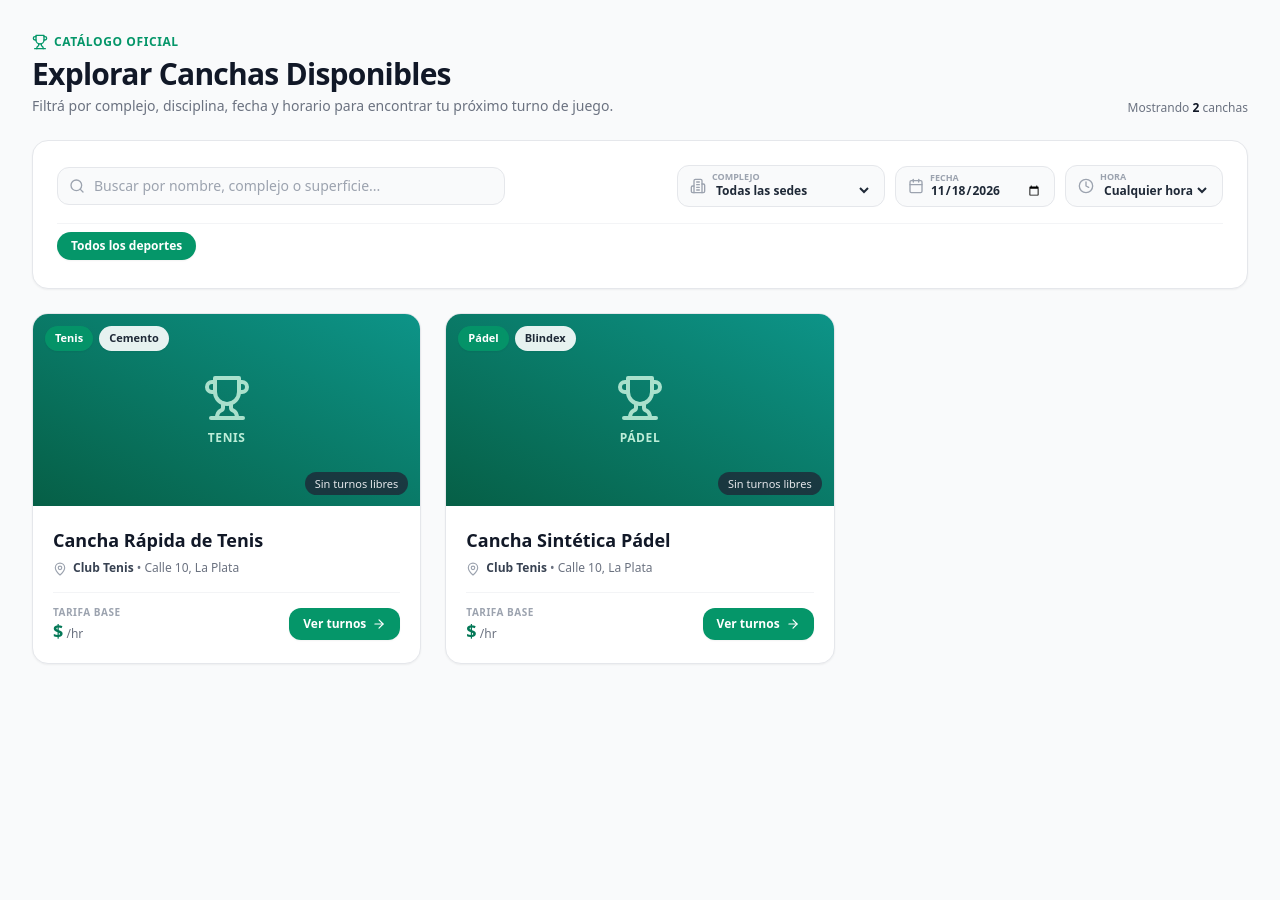
Test case: CourtsPage › filtra canchas reactivamente mediante el buscador de texto
This screenshot has width=1280, height=900.
Check: the heading "Cancha Rápida de Tenis" is shown, box [53,528,263,552]
Check: the heading "Cancha Sintética Pádel" is shown, box [466,528,671,552]
Type "Pádel" into the field with placeholder "Buscar por nombre, complejo o superficie..." at (281,186), box [57,167,505,205]
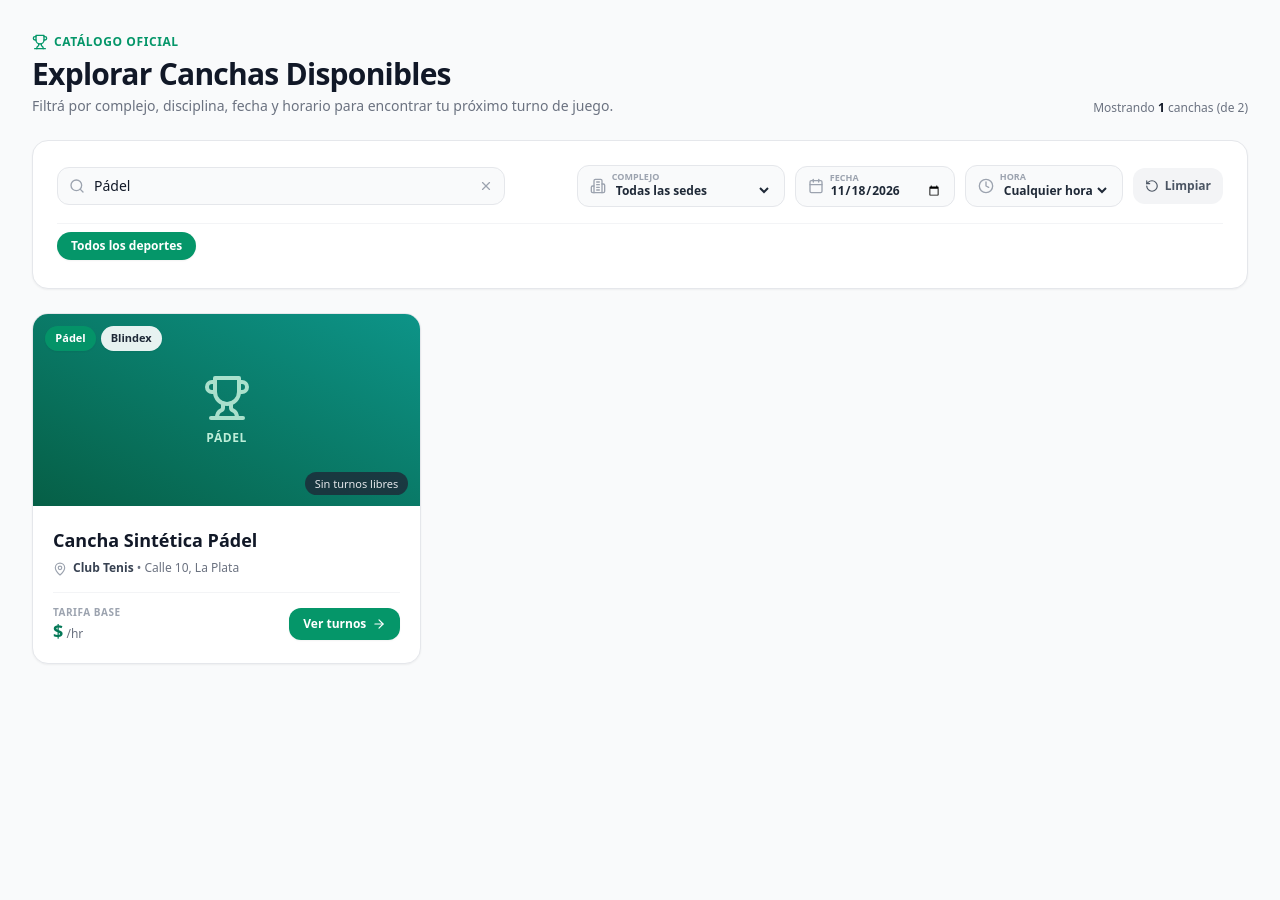
Check: the heading "Cancha Sintética Pádel" is shown, box [53,528,257,552]
Check: the heading "Cancha Rápida de Tenis" is gone
